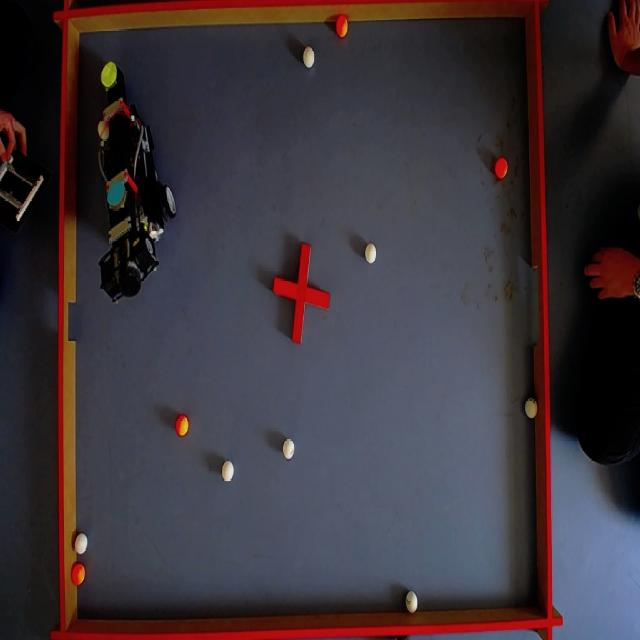orange: (98, 62, 118, 86), (336, 16, 349, 38), (178, 416, 191, 436), (72, 566, 85, 586), (494, 158, 506, 179)
robot: (88, 53, 180, 313)
robot-rear: (106, 177, 127, 208)
white: (404, 591, 419, 613), (523, 398, 537, 421), (304, 46, 316, 71), (76, 534, 89, 556), (365, 242, 378, 264), (223, 463, 235, 485), (284, 439, 297, 458)
